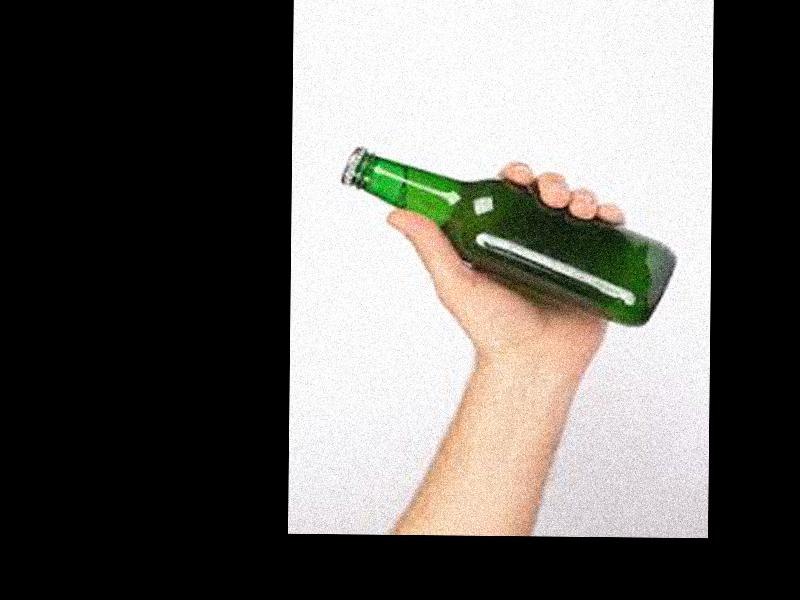Beer: (338, 148, 674, 327)
